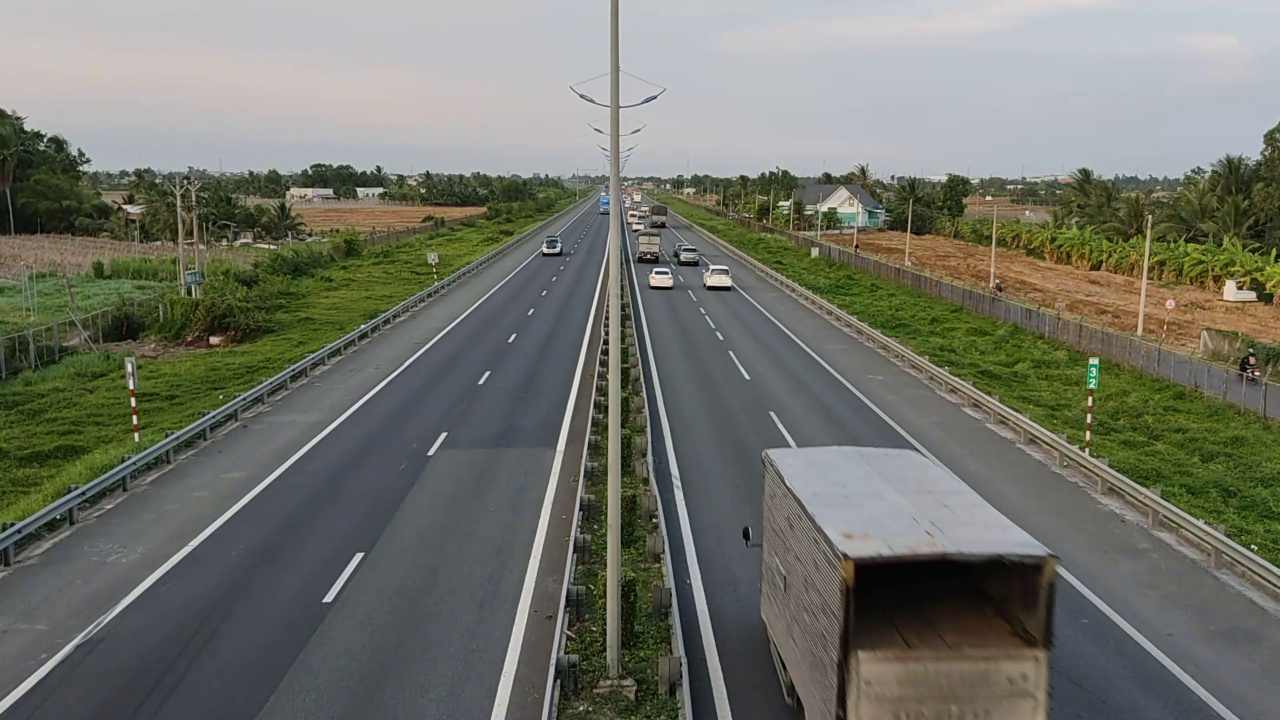car: (702, 265, 734, 290), (647, 267, 675, 289), (540, 235, 563, 255)
truck: (748, 430, 1057, 719), (636, 233, 662, 263)
